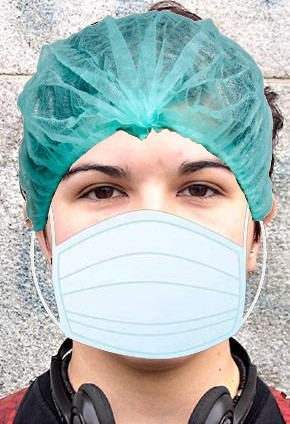with_mask_and_cap: (24, 14, 273, 361)
